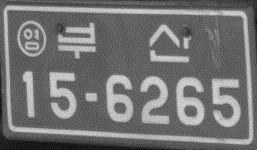-: (82, 89, 100, 105)
1: (19, 69, 40, 118)
2: (138, 73, 171, 125)
5: (210, 77, 243, 128), (47, 69, 77, 119)
6: (175, 75, 205, 126), (104, 73, 134, 122)
부산_D: (55, 18, 193, 64)
영: (16, 18, 47, 57)
